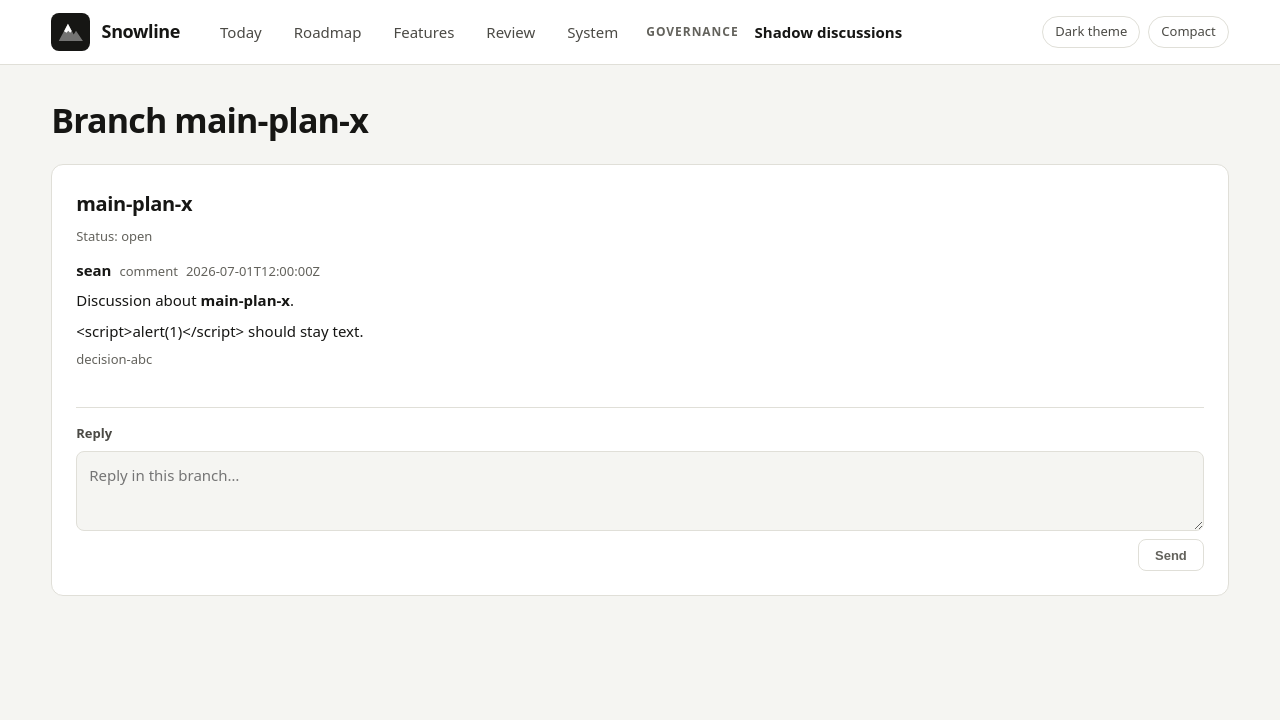
Test: thread composer › end to end: a registered thread page's composer POSTs through the /ui-api proxy path shape and refetches
Type "hello there" into the text box labelled "Reply".
click(640, 491); type("hello there")  # box [76,451,1204,531]
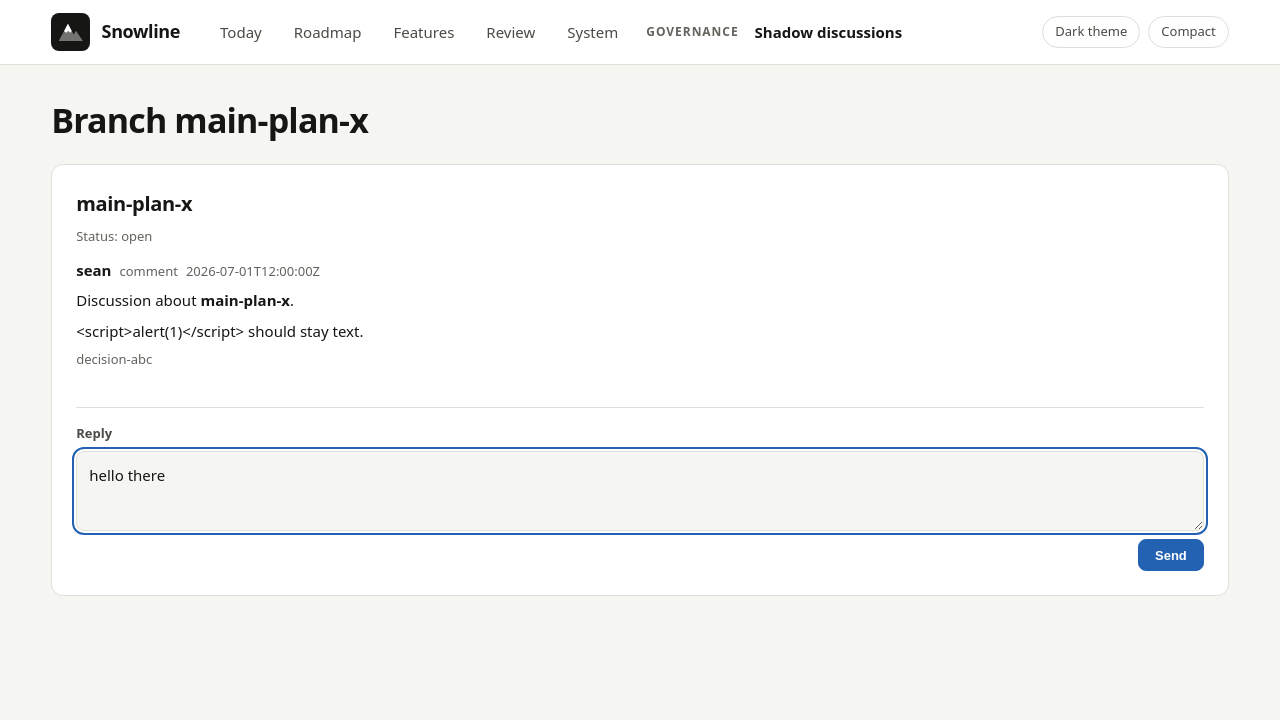
Click the button "Send".
click(1171, 555)  # box [1138,539,1204,571]
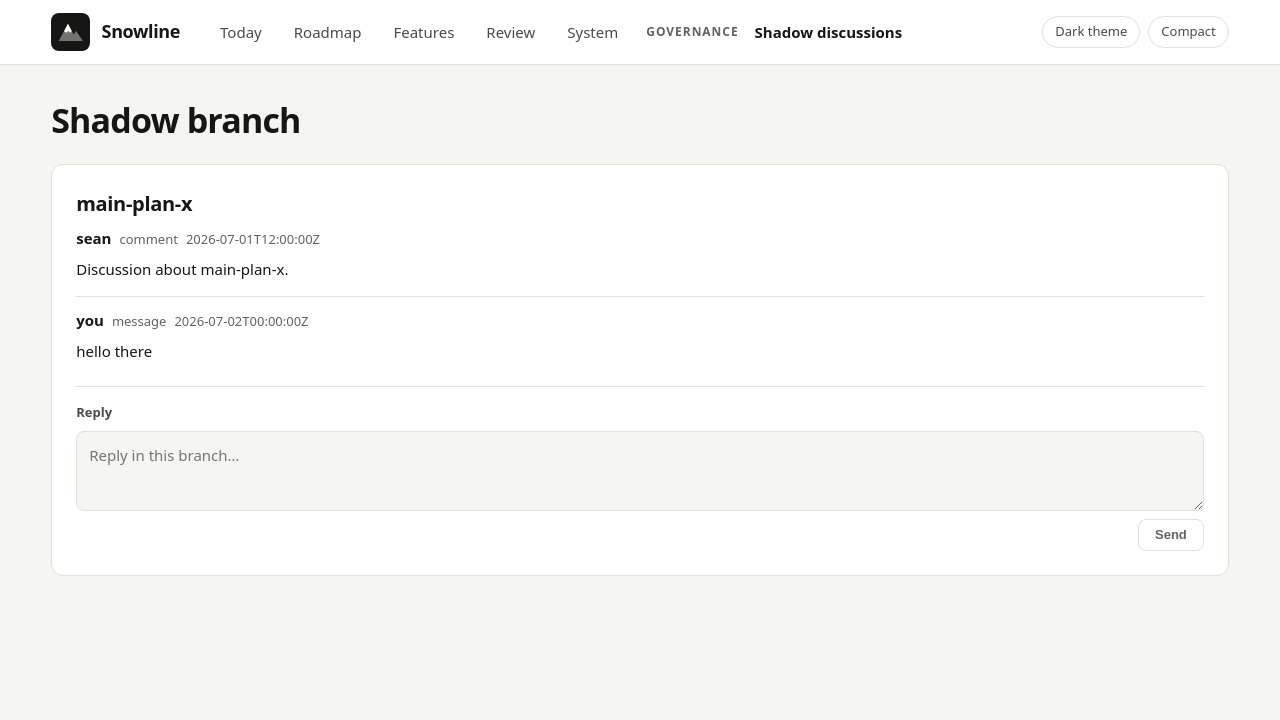
Result: the text box labelled "Reply" is empty at [76,431,1204,511]
Result: the text "hello there" is shown at [76,341,152,361]
